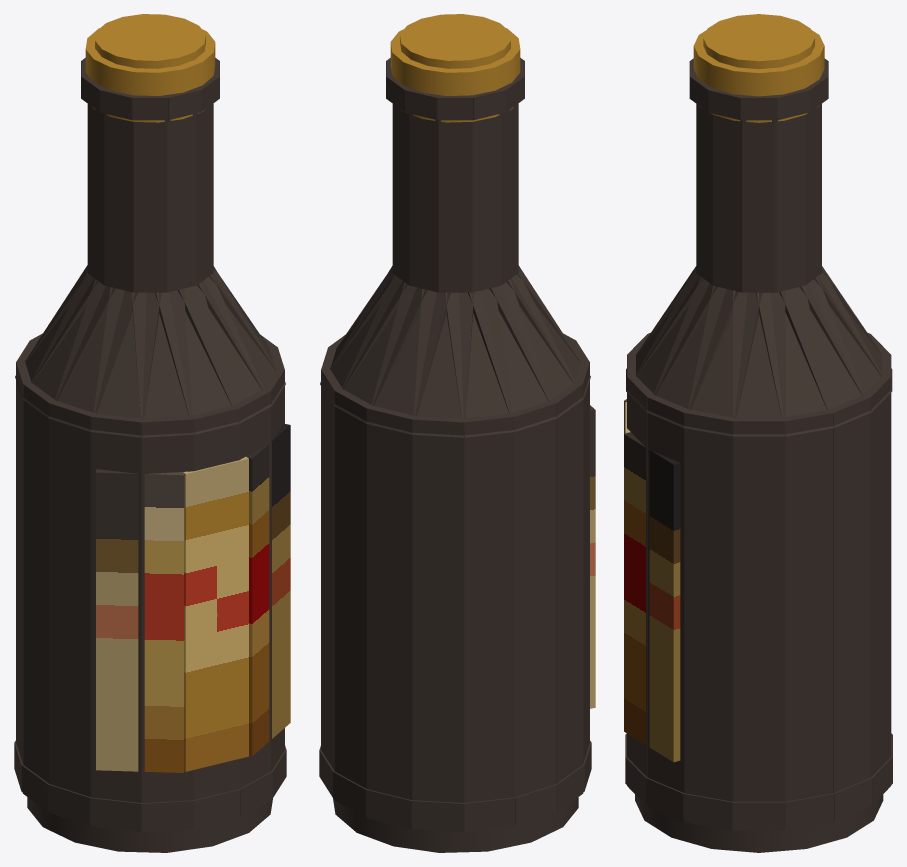
Rendered from CMU3DDrinkCoffeeLiqueurBottleFullDrinksExtraCloud.glb.
3 views of the same model, side by side, from view 1: azimuth 30°, elevation 25°; view 2: azimuth 150°, elevation 25°; view 3: azimuth 270°, elevation 25° (orthographic).
Parts seen in each view (by area): view 1: source front label tangent 0, source front label tangent 1, continuous hollow body wall 09, source front label tangent 2, continuous hollow body wall 08, continuous hollow body wall 10, hollow bottle neck 08, continuous hollow body wall 11, hollow bottle neck 09, hollow bottle neck 07, cap top crown, thick bottle heel (+26 smaller); view 2: continuous hollow body wall 05, continuous hollow body wall 06, continuous hollow body wall 04, continuous hollow body wall 07, continuous hollow body wall 03, continuous hollow body wall 08, hollow bottle neck 04, continuous hollow body wall 02, hollow bottle neck 03, hollow bottle neck 05, cap top crown, thick bottle heel (+25 smaller); view 3: continuous hollow body wall 00, continuous hollow body wall 15, continuous hollow body wall 01, source front label tangent 2, continuous hollow body wall 02, continuous hollow body wall 03, hollow bottle neck 00, continuous hollow body wall 14, hollow bottle neck 01, hollow bottle neck 11, cap top crown, thick bottle heel (+25 smaller).
Part boxes in pixels (<box>): source front label tangent 0: <box>96,469,184,772</box>; source front label tangent 1: <box>183,456,248,771</box>; continuous hollow body wall 09: <box>49,400,96,826</box>; source front label tangent 2: <box>246,423,290,756</box>; continuous hollow body wall 08: <box>23,383,55,812</box>; continuous hollow body wall 10: <box>90,413,143,832</box>; hollow bottle neck 08: <box>133,120,167,292</box>; continuous hollow body wall 11: <box>141,415,194,832</box>; hollow bottle neck 09: <box>167,113,196,292</box>; hollow bottle neck 07: <box>104,113,133,292</box>; cap top crown: <box>95,14,205,68</box>; thick bottle heel: <box>27,797,272,852</box>; continuous hollow body wall 05: <box>412,416,465,832</box>; continuous hollow body wall 06: <box>462,413,515,832</box>; continuous hollow body wall 04: <box>366,406,416,829</box>; continuous hollow body wall 07: <box>510,400,556,826</box>; continuous hollow body wall 03: <box>335,390,374,817</box>; continuous hollow body wall 08: <box>551,383,583,812</box>; hollow bottle neck 04: <box>438,120,472,292</box>; continuous hollow body wall 02: <box>321,368,343,800</box>; hollow bottle neck 03: <box>409,113,438,292</box>; hollow bottle neck 05: <box>472,113,501,292</box>; cap top crown: <box>400,14,510,68</box>; thick bottle heel: <box>333,797,578,852</box>; continuous hollow body wall 00: <box>732,417,785,830</box>; continuous hollow body wall 15: <box>684,410,733,830</box>; continuous hollow body wall 01: <box>785,410,834,830</box>; source front label tangent 2: <box>624,432,680,762</box>; continuous hollow body wall 02: <box>827,394,871,822</box>; continuous hollow body wall 03: <box>864,377,891,806</box>; hollow bottle neck 00: <box>742,120,776,292</box>; continuous hollow body wall 14: <box>647,394,690,821</box>; hollow bottle neck 01: <box>775,115,805,292</box>; hollow bottle neck 11: <box>713,115,742,292</box>; cap top crown: <box>703,14,814,69</box>; thick bottle heel: <box>635,794,883,852</box>.
Size of what is drawn, in the model's own units: 0.2293 by 0.721 by 0.2304.
Materials: 5 (3 with a texture image).
